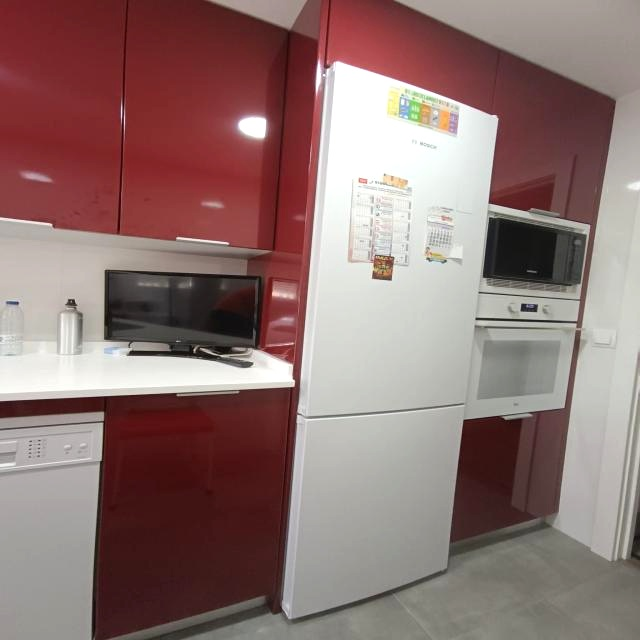cabinet: (309, 0, 615, 225), (94, 388, 293, 640), (452, 406, 570, 554)
countertop: (0, 347, 292, 403)
fridge: (283, 62, 499, 624)
microwave: (480, 204, 590, 300)
monitor: (104, 270, 264, 358)
oven: (464, 293, 580, 421)
